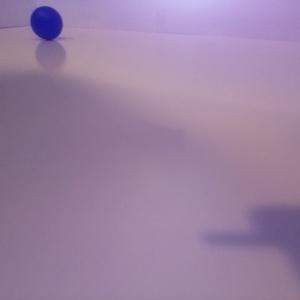dead_ball: (30, 6, 63, 40)
